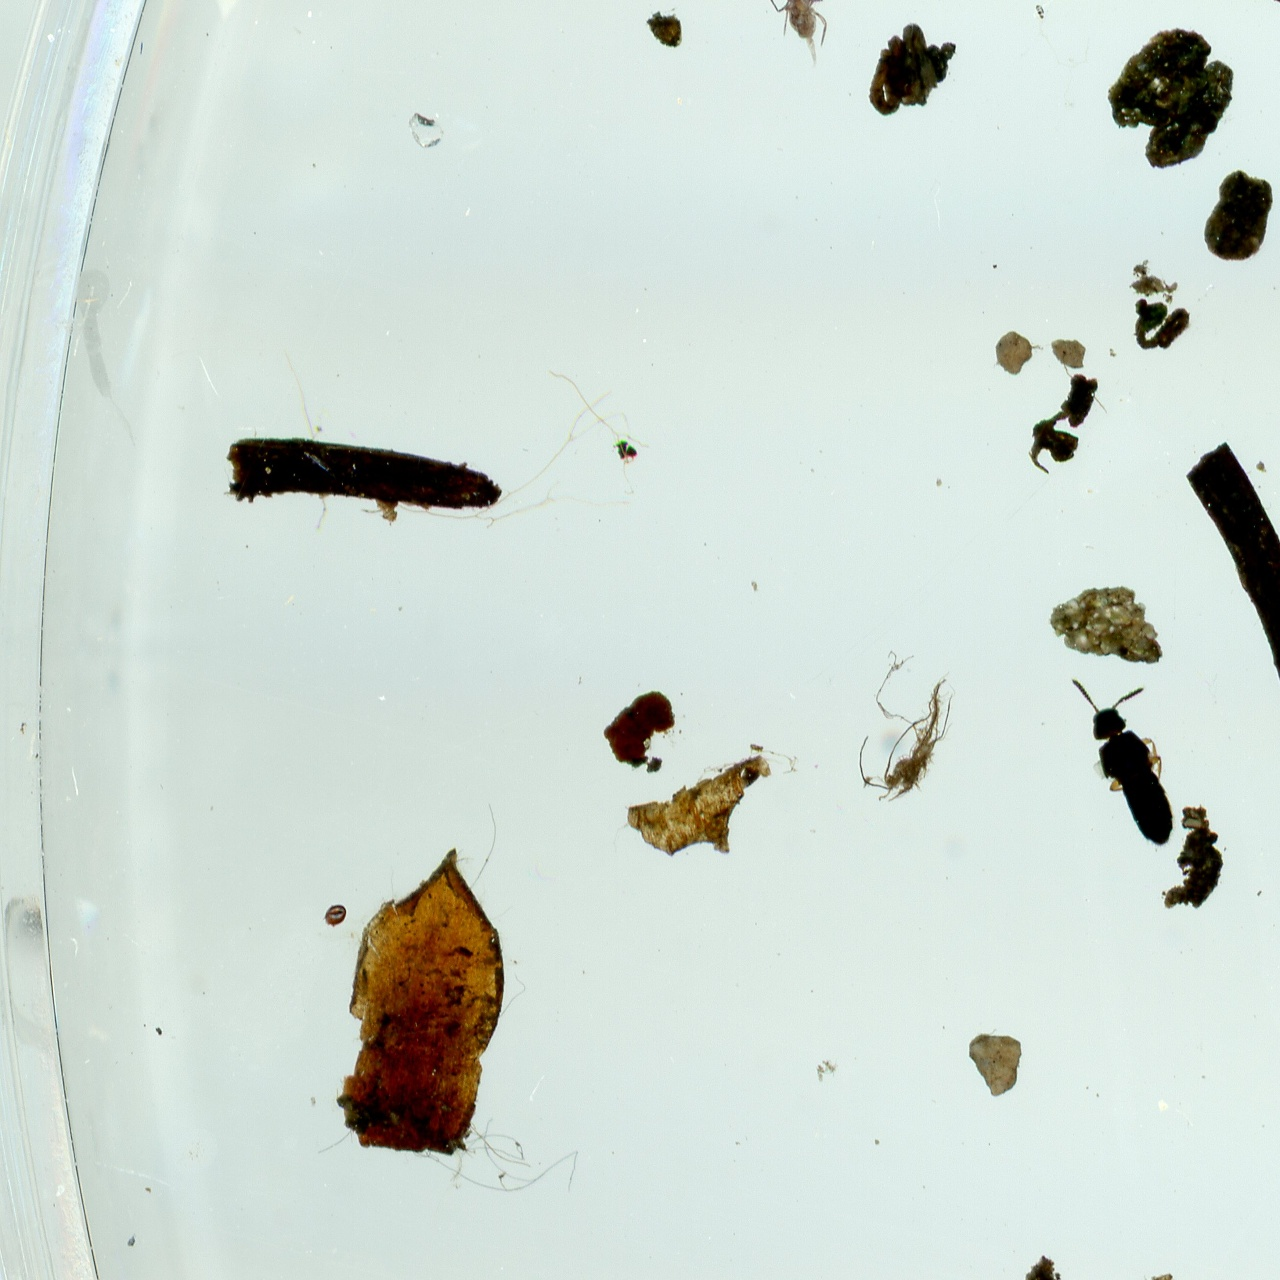arthropod: (1051, 651, 1204, 871), (756, 0, 833, 70), (320, 900, 347, 930)
